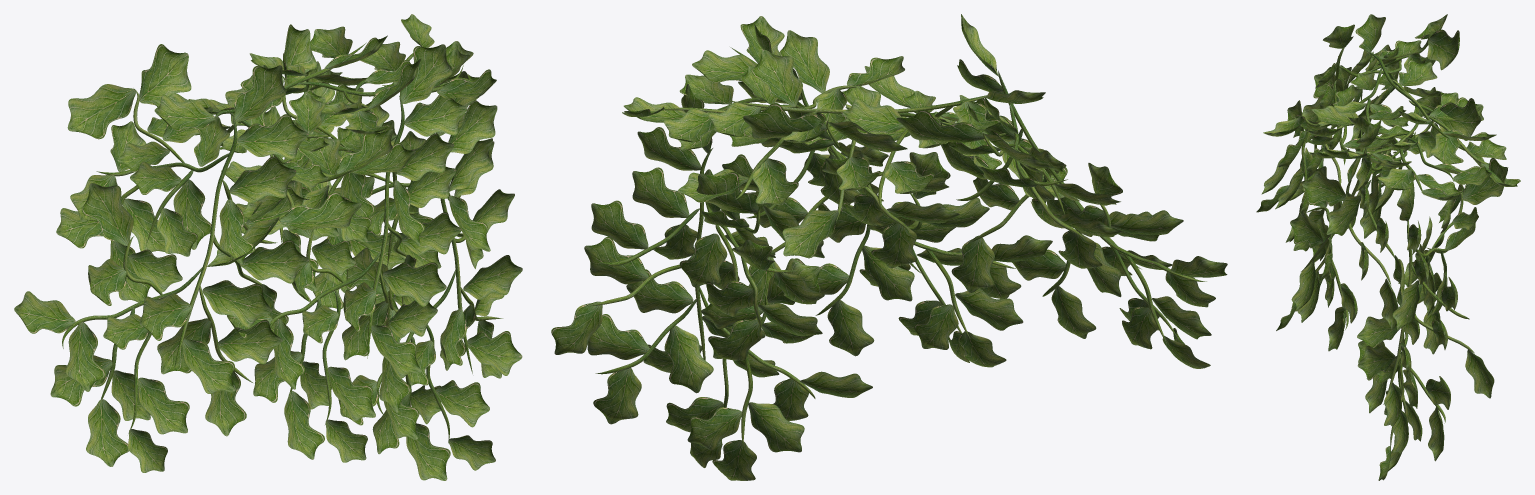
File: green_creeper_plant.glb
The picture shows the model from 3 angles, left to right: view 1: azimuth 30°, elevation 25°; view 2: azimuth 150°, elevation 25°; view 3: azimuth 270°, elevation 25°; orthographic projection. The views are drawn at different scales.
Parts seen in each view (by area): view 1: Object_3, Object_8, Object_10; view 2: Object_3, Object_8, Object_10; view 3: Object_3, Object_8, Object_10.
Boxes of the visible parts, x1,y1,x2,y2 form: Object_3: (14, 14, 522, 480); Object_8: (62, 42, 503, 417); Object_10: (96, 53, 460, 443); Object_3: (551, 14, 1227, 480); Object_8: (590, 47, 1206, 449); Object_10: (599, 85, 1178, 448); Object_3: (1256, 14, 1520, 480); Object_8: (1296, 31, 1508, 423); Object_10: (1289, 60, 1469, 449).
Bounding box in the file's own units: 15800 × 12909 × 8284.
Materials: 3 (3 with a texture image).
